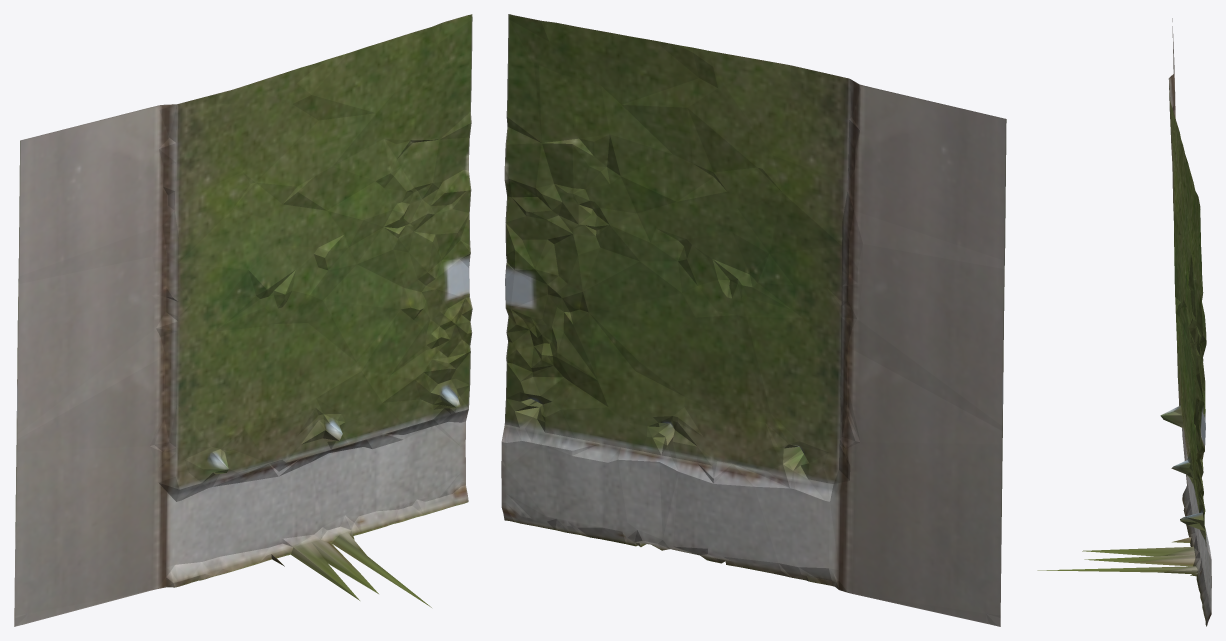
Rendered from map_20_90.obj.
3 views of the same model, side by side, from view 1: azimuth 30°, elevation 25°; view 2: azimuth 150°, elevation 25°; view 3: azimuth 270°, elevation 25° (orthographic). The views are drawn at different scales.
Parts seen in each view (by area): view 1: grp1; view 2: grp1; view 3: grp1.
Part boxes in pixels (bbox=[...]): grp1: bbox=[14, 14, 472, 626]; grp1: bbox=[501, 14, 1006, 626]; grp1: bbox=[1037, 18, 1211, 626].
Size of the model in its own units: 10 by 10 by 3.83.
Materials: 1 (1 with a texture image).
